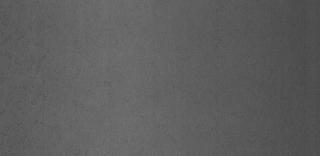silk spot: (6, 24, 56, 104)
